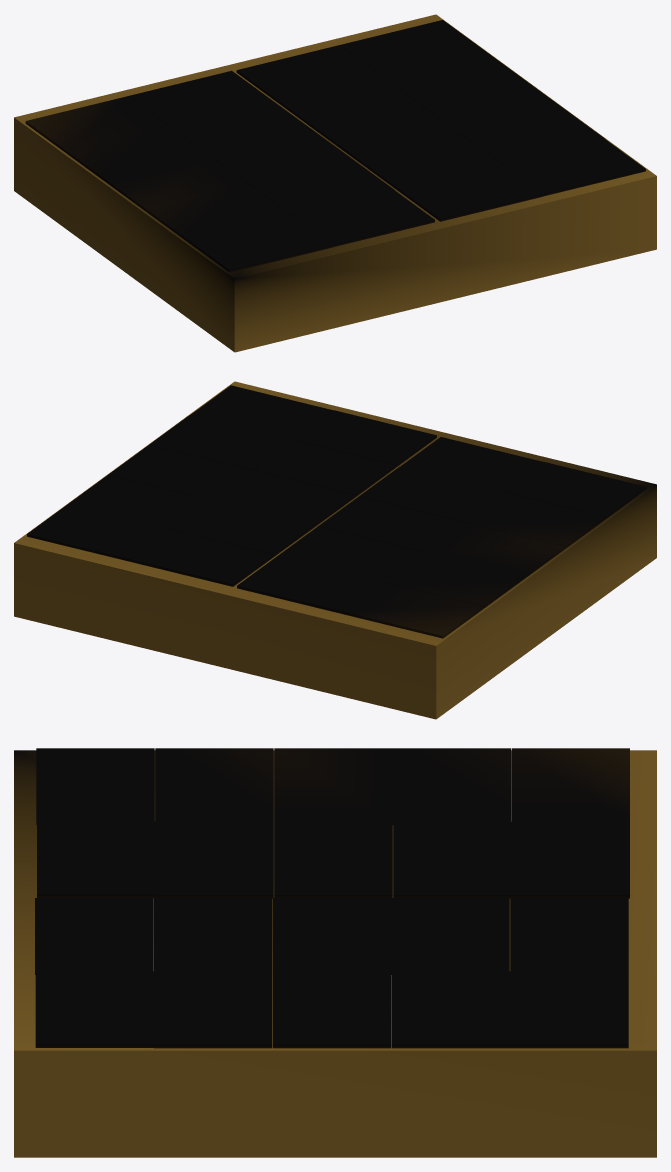
The picture shows the model from 3 angles, top to bottom: view 1: azimuth 30°, elevation 25°; view 2: azimuth 150°, elevation 25°; view 3: azimuth 270°, elevation 25°; orthographic projection. The views are drawn at different scales.
Parts seen in each view (by area): view 1: Cube; view 2: Cube; view 3: Cube.
Part boxes in pixels (x1=…): Cube: x1=14, y1=14, x2=656, y2=352; Cube: x1=14, y1=381, x2=656, y2=719; Cube: x1=14, y1=748, x2=656, y2=1157.
Bounding box in the file's own units: 12.01 × 2.07 × 10.88.
